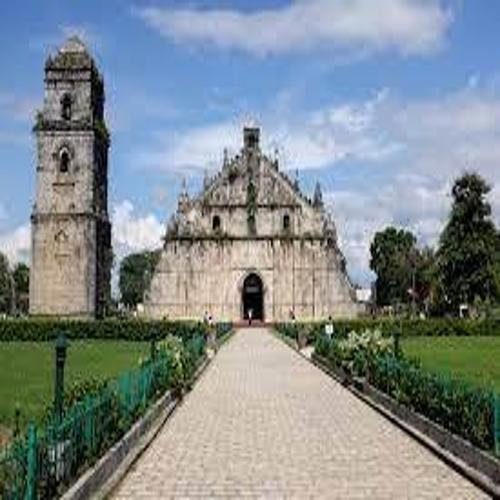Paoay Church: (17, 29, 386, 337)
